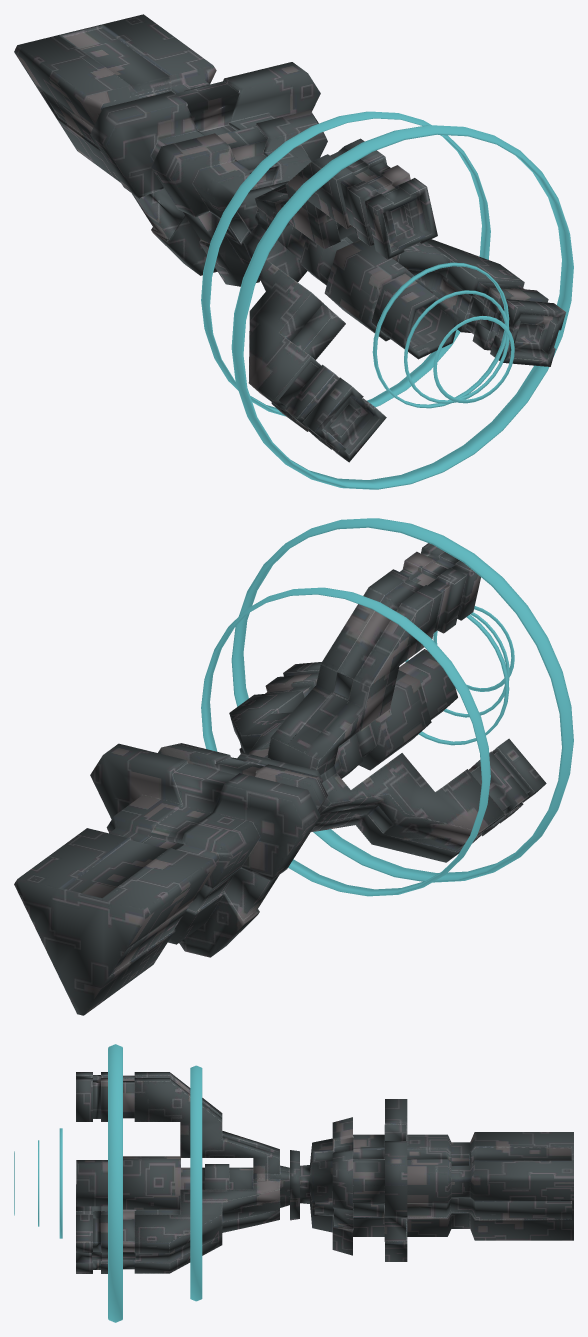
File: Arma tecnologica circulos energia.glb
3 renders of one model, top to bottom at view 1: azimuth 30°, elevation 25°; view 2: azimuth 150°, elevation 25°; view 3: azimuth 270°, elevation 25°, orthographic. The views are drawn at different scales.
Parts seen in each view (by area): view 1: Cube, Cube.002, Circle, Cube.003, Cube.001, Cube.004, Cube.005; view 2: Cube, Cube.002, Circle, Cube.003, Cube.001, Cube.005, Cube.004; view 3: Cube, Cube.002, Circle, Cube.004, Cube.003, Cube.005, Cube.001.
Part boxes in pixels (x1,y1,x2,y2): Cube: (14, 14, 327, 286); Cube.002: (243, 138, 524, 431); Circle: (201, 111, 573, 489); Cube.003: (340, 162, 437, 259); Cube.001: (279, 362, 386, 462); Cube.004: (465, 282, 565, 366); Cube.005: (371, 273, 459, 359); Cube: (14, 743, 327, 1015); Cube.002: (229, 569, 504, 862); Circle: (201, 518, 573, 896); Cube.003: (400, 543, 480, 633); Cube.001: (469, 738, 546, 836); Cube.005: (398, 649, 457, 719); Cube.004: (265, 662, 321, 697); Cube: (290, 1099, 573, 1261); Cube.002: (123, 1072, 289, 1273); Circle: (14, 1044, 202, 1322); Cube.004: (76, 1214, 135, 1273); Cube.003: (76, 1072, 134, 1121); Cube.005: (76, 1160, 107, 1206); Cube.001: (76, 1184, 135, 1218).
Size of the model in its own units: 17.85 by 17.85 by 35.86.
Materials: 2 (1 with a texture image).
